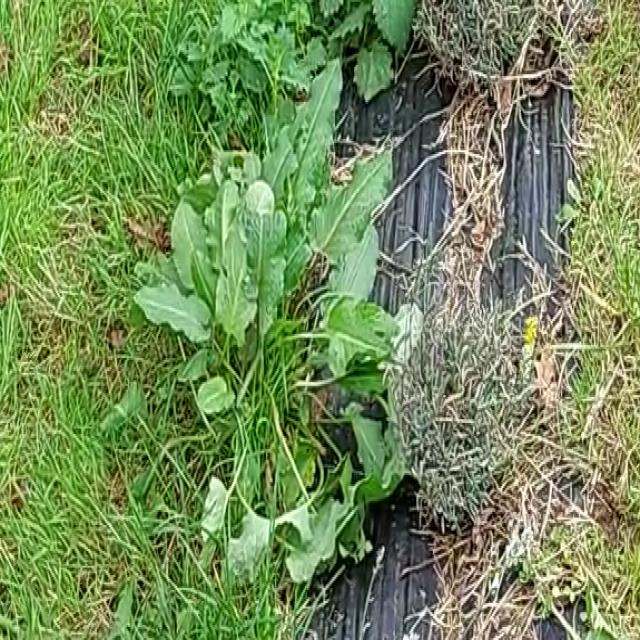organic waste: (95, 7, 443, 592)
